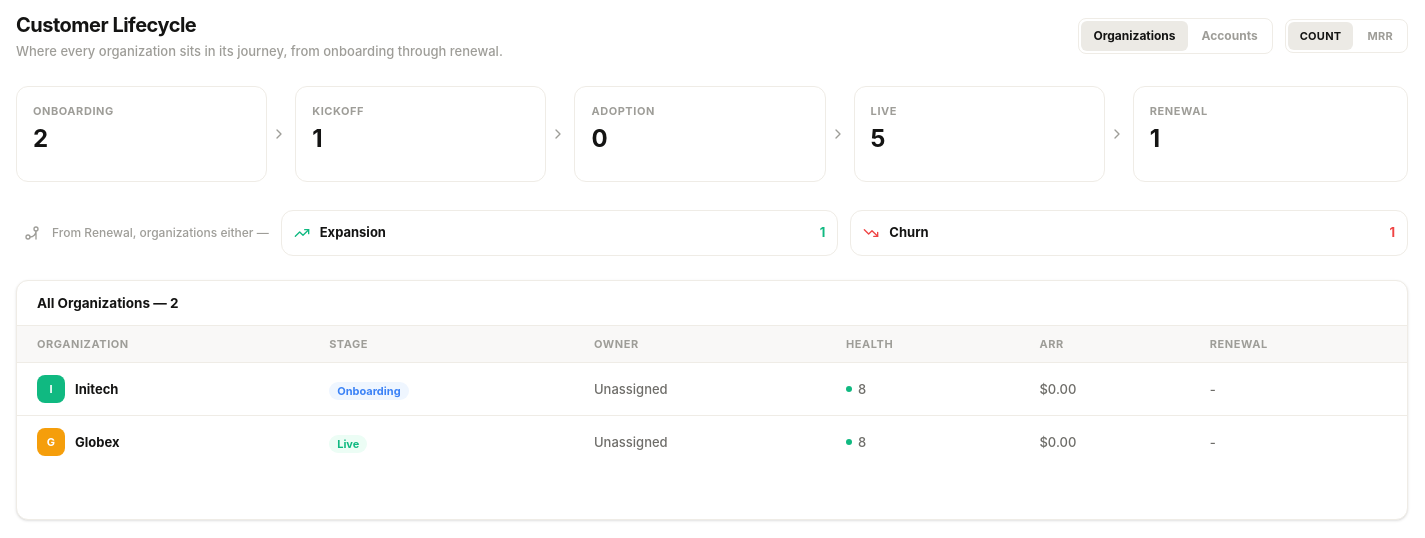
Test case: LifecyclePage › clicking a stage filters the organization table to just that stage
The image size is (1425, 538).
Expected: the text "Globex" is shown, 75,432 -> 120,452
Expected: the text "Initech" is shown, 75,380 -> 118,399
Click the button "Onboarding 2". click: (142, 134)
box: 16,86 -> 267,182
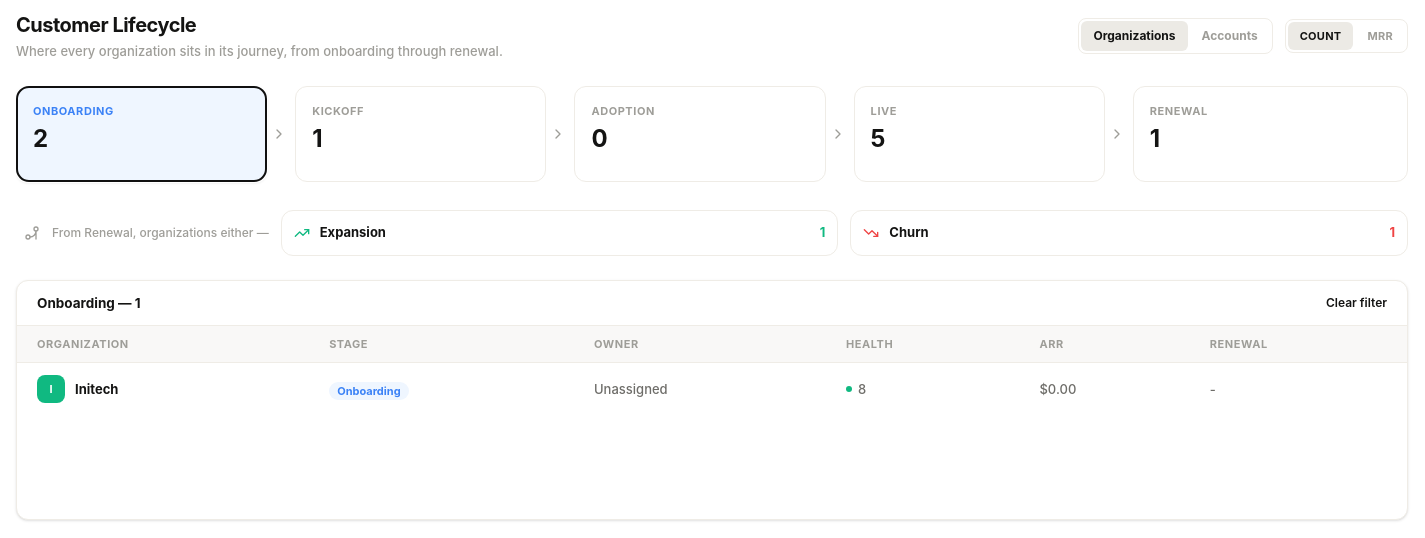
Expected: the text "Initech" is shown, 75,380 -> 118,399
Expected: the text "Globex" is gone
Expected: the button "Clear filter" is shown
Click the button "Clear filter". click: (1356, 303)
box: 1326,294 -> 1387,312
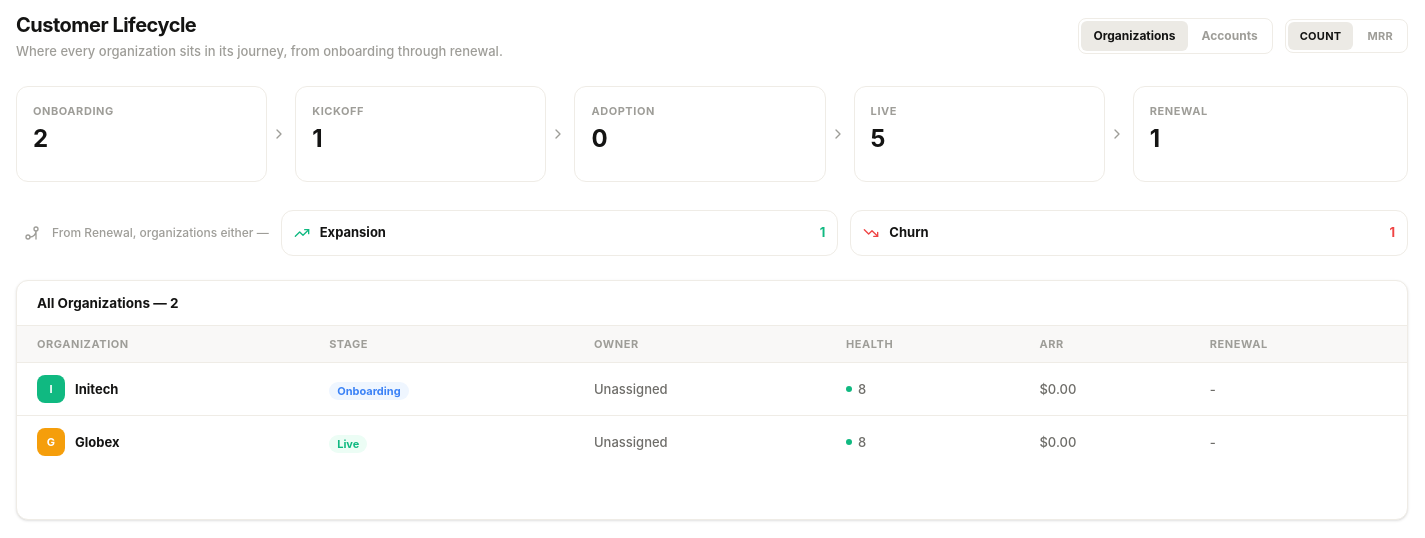
Expected: the text "Globex" is shown, 75,432 -> 120,452
